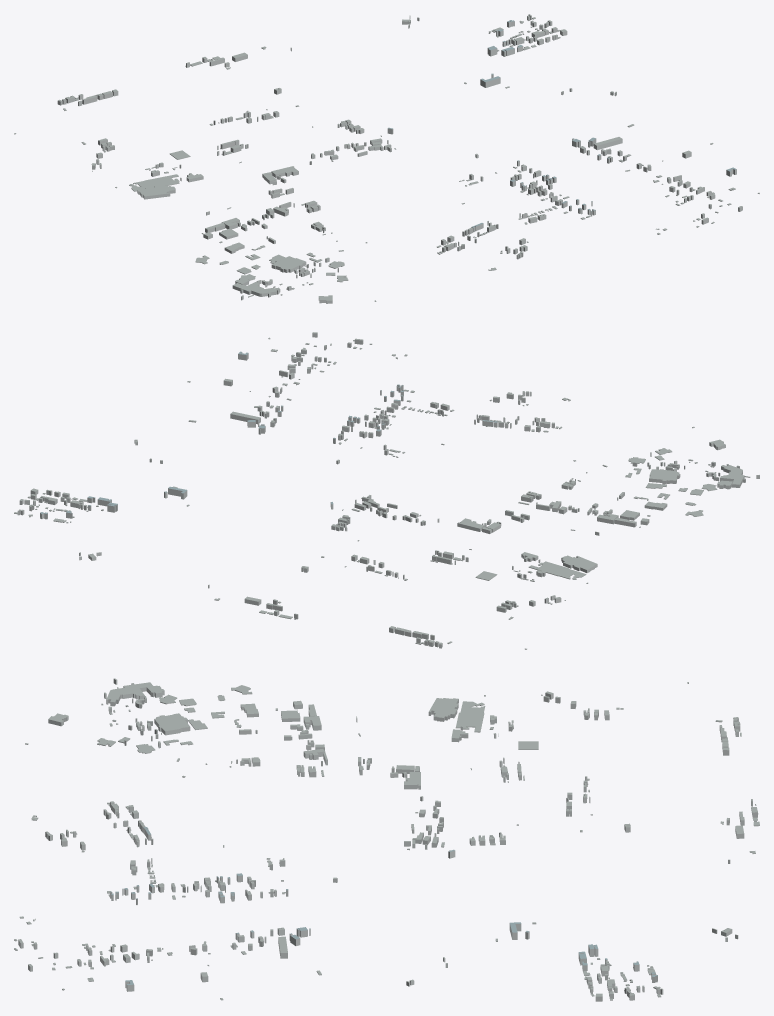
Rendered from far.glb.
3 renders of one model, top to bottom at view 1: azimuth 30°, elevation 25°; view 2: azimuth 150°, elevation 25°; view 3: azimuth 270°, elevation 25°, orthographic. The views are drawn at different scales.
Bounding box in the file's own units: 2093 × 24.1 × 2070.
